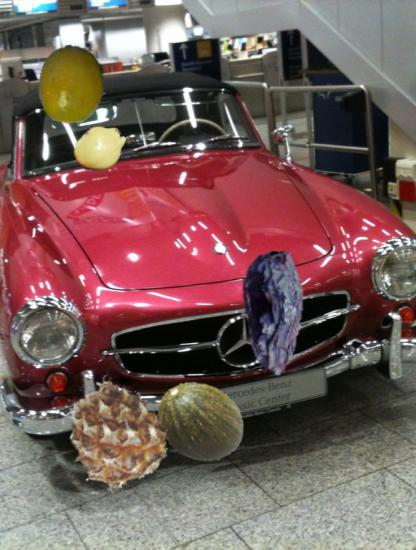Dates: (210, 251, 335, 376)
Maracuja: (32, 45, 111, 124)
Melon: (157, 378, 244, 465)
Pineapple: (58, 380, 169, 491)
Quince: (74, 121, 129, 176)
